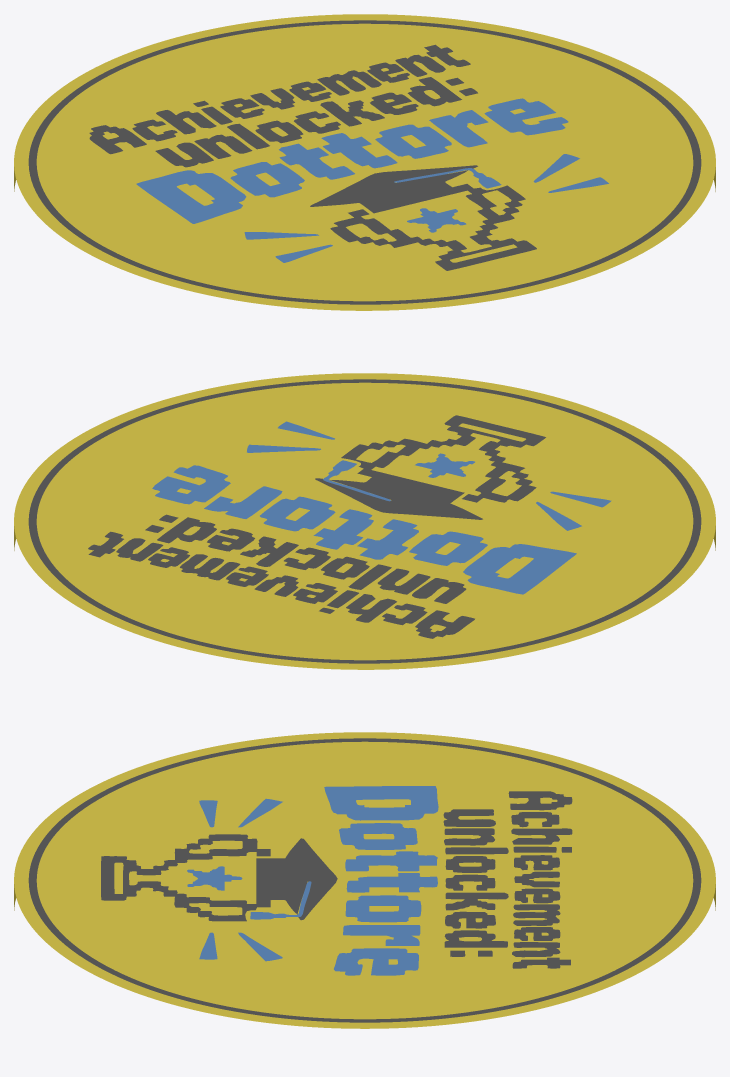
Rendered from sottobicchiere-achievement-dottore.glb.
3 renders of one model, top to bottom at view 1: azimuth 30°, elevation 25°; view 2: azimuth 150°, elevation 25°; view 3: azimuth 270°, elevation 25°, orthographic.
Parts seen in each view (by area): view 1: coaster_base, coaster_ink, coaster_accent; view 2: coaster_base, coaster_ink, coaster_accent; view 3: coaster_base, coaster_ink, coaster_accent.
Part boxes in pixels (box(x1,y1,x2,y2)): coaster_base: box(14, 14, 715, 310); coaster_ink: box(28, 20, 701, 304); coaster_accent: box(136, 98, 608, 262); coaster_base: box(14, 373, 715, 669); coaster_ink: box(28, 379, 701, 663); coaster_accent: box(152, 421, 611, 594); coaster_base: box(14, 732, 715, 1028); coaster_ink: box(28, 738, 701, 1022); coaster_accent: box(187, 786, 438, 975).
Size of the model in its own units: 0.075 by 0.004 by 0.075.
